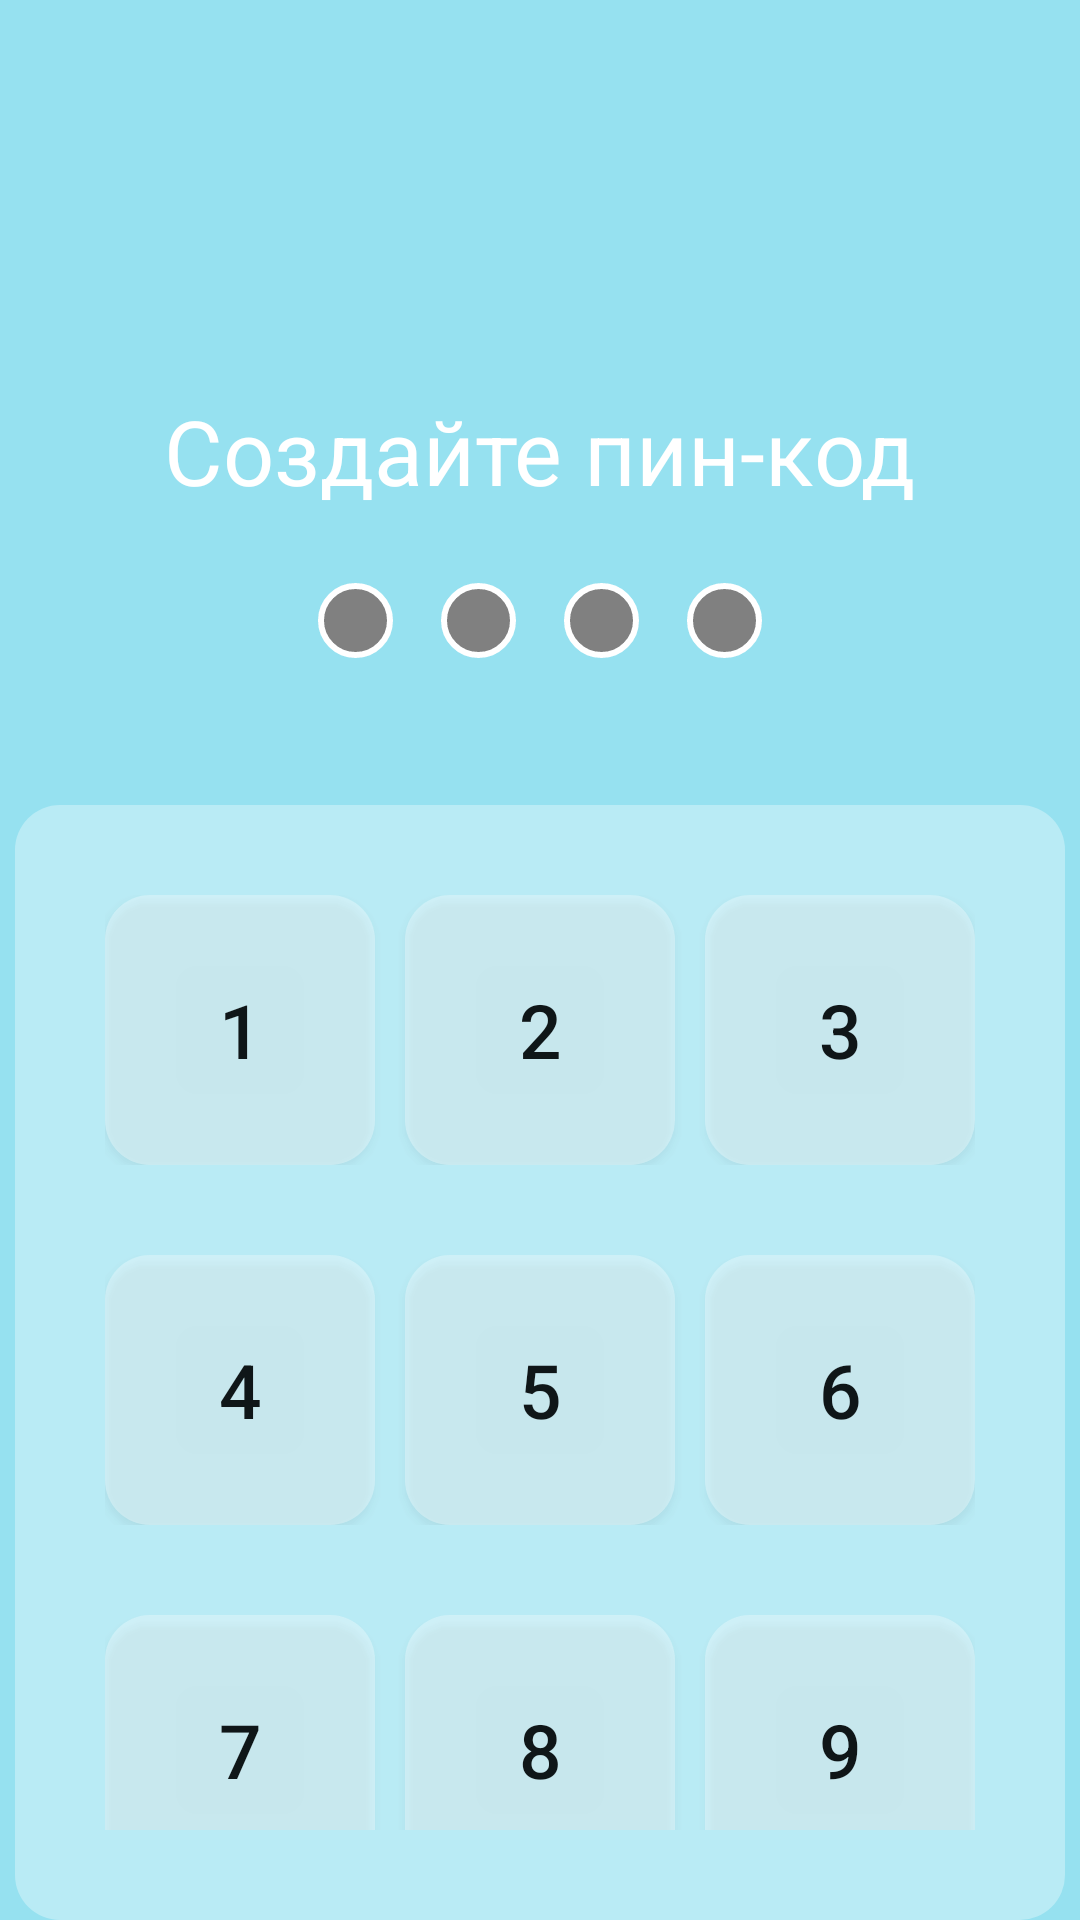

Icon bounding boxes for this 1080x1920 phone screenshot, format (x1, y1, x2, y2):
pin dot empty: (318, 583, 393, 658), (441, 583, 516, 658), (564, 583, 639, 658), (687, 583, 762, 658)
